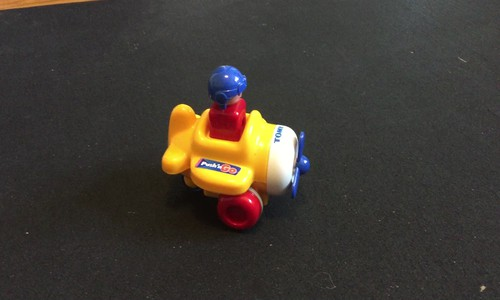toy: (161, 62, 315, 235)
